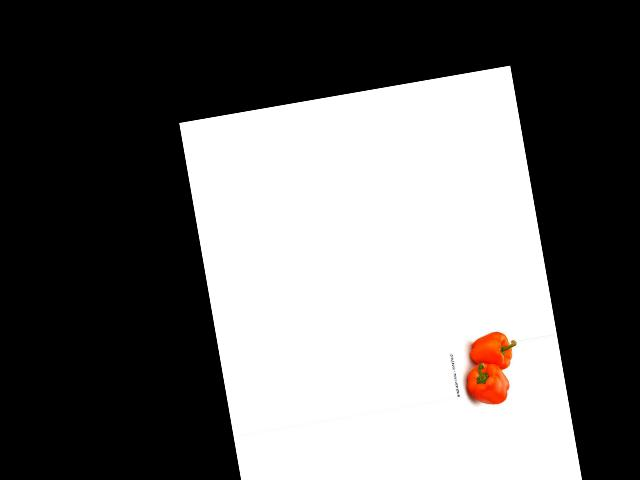bell_pepper: (459, 357, 513, 410)
